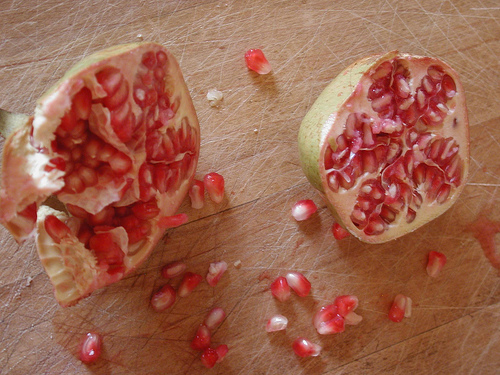pomogranate: (1, 38, 202, 307), (295, 50, 467, 245)
